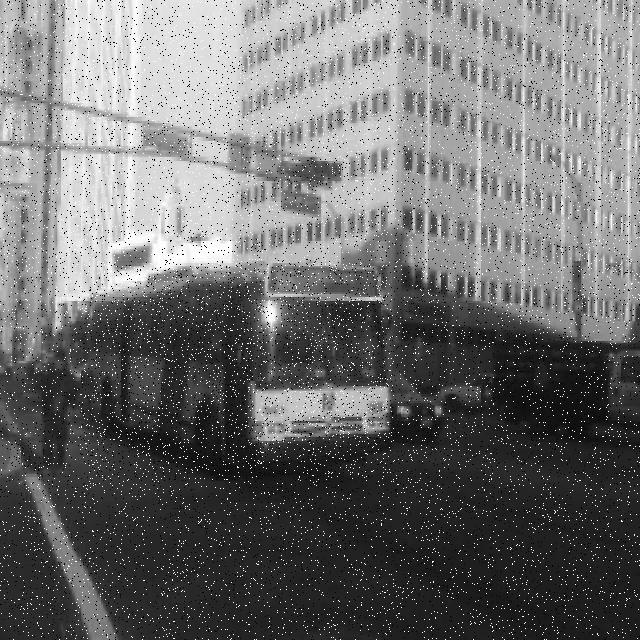Bus: (80, 262, 392, 480)
